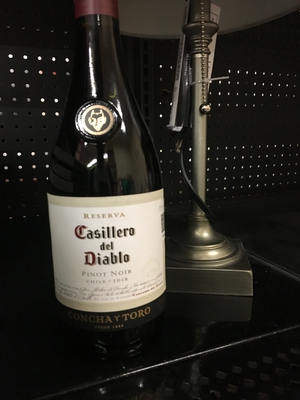casillero del diablo pinot noir: (43, 31, 188, 327)
